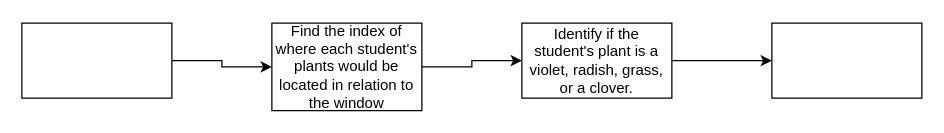
Image size: 944x133. Some labels were removed from this diagram. Each missing label, with the box of its shape:
Initiate a value to assign each student to their plants: (21, 22, 172, 98)
return the plants: (771, 22, 922, 98)
